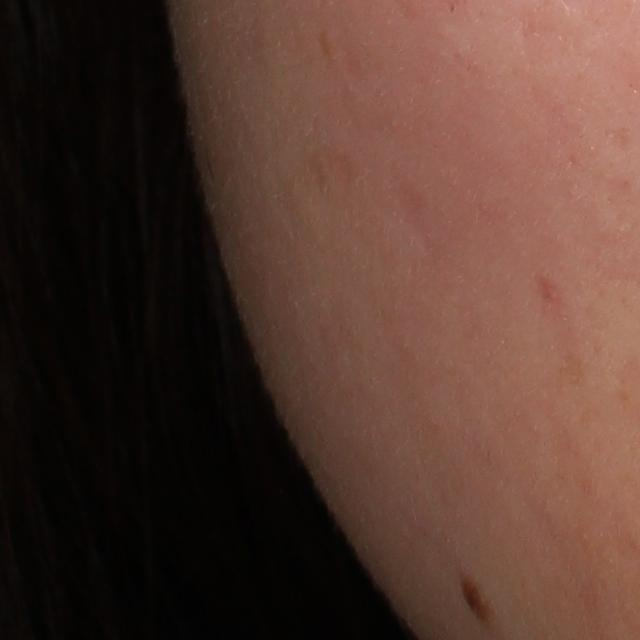nevus: (453, 563, 502, 634)
